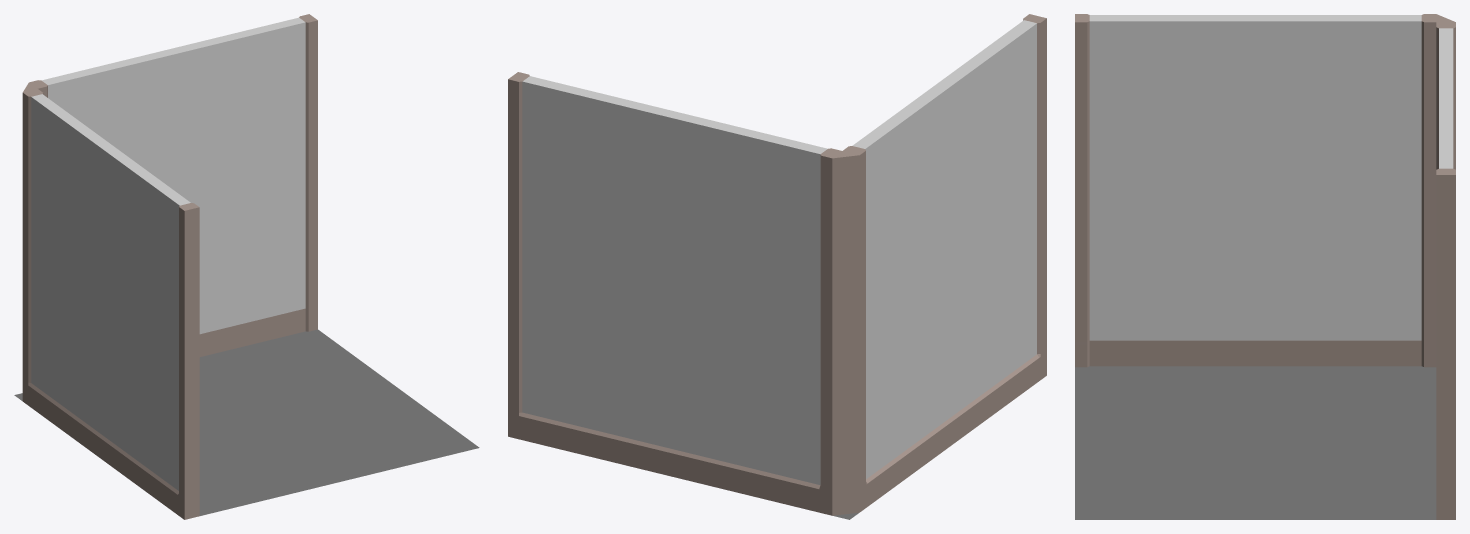
File: wall_exteriorCorner_mesh.fbx
3 views of the same model, side by side, from view 1: azimuth 30°, elevation 25°; view 2: azimuth 150°, elevation 25°; view 3: azimuth 270°, elevation 25° (orthographic). The views are drawn at different scales.
Visible parts, largest first — view 1: wall_exteriorCorner_mesh; view 2: wall_exteriorCorner_mesh; view 3: wall_exteriorCorner_mesh.
Part boxes in pixels (box(x1,y1,x2,y2)): wall_exteriorCorner_mesh: box(14, 14, 479, 519); wall_exteriorCorner_mesh: box(508, 14, 1046, 519); wall_exteriorCorner_mesh: box(1075, 14, 1455, 519).
Bounding box in the file's own units: 1 × 1 × 1.
